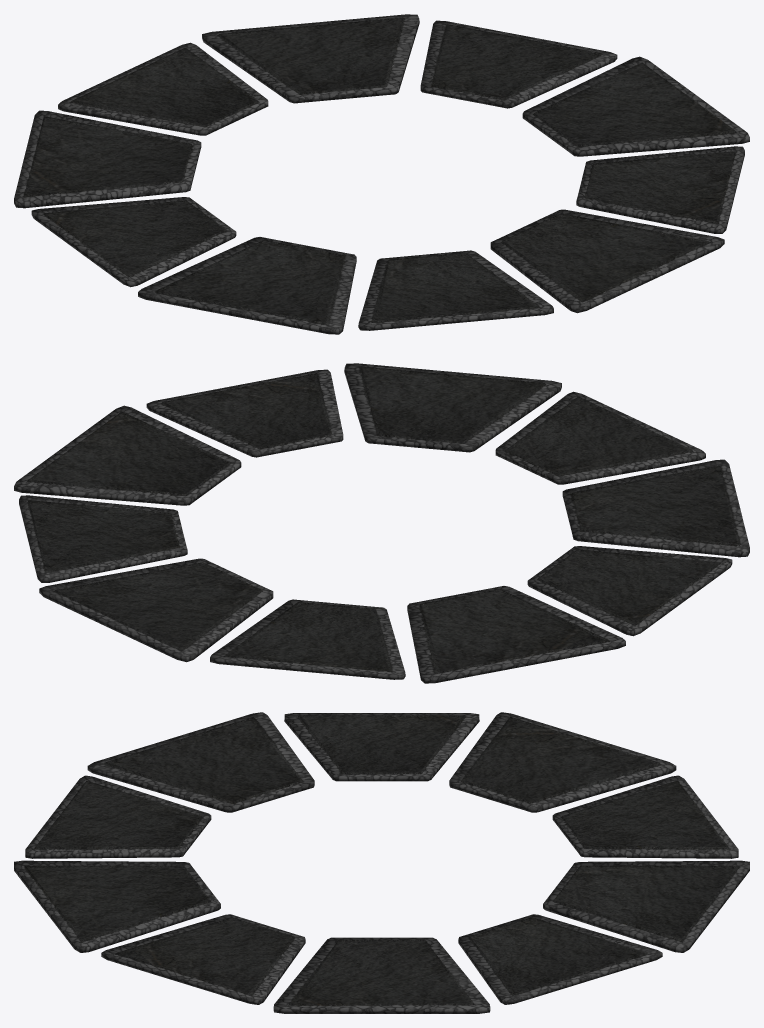
File: plate.fbx
3 views of the same model, one above another, from view 1: azimuth 30°, elevation 25°; view 2: azimuth 150°, elevation 25°; view 3: azimuth 270°, elevation 25° (orthographic).
Visible parts, largest first — view 1: plate; view 2: plate; view 3: plate.
Boxes of the visible parts, x1=… form: plate: x1=14, y1=14, x2=749, y2=334; plate: x1=14, y1=363, x2=749, y2=683; plate: x1=14, y1=712, x2=749, y2=1013.
Size of the model in its own units: 281 by 2.74 by 294.
